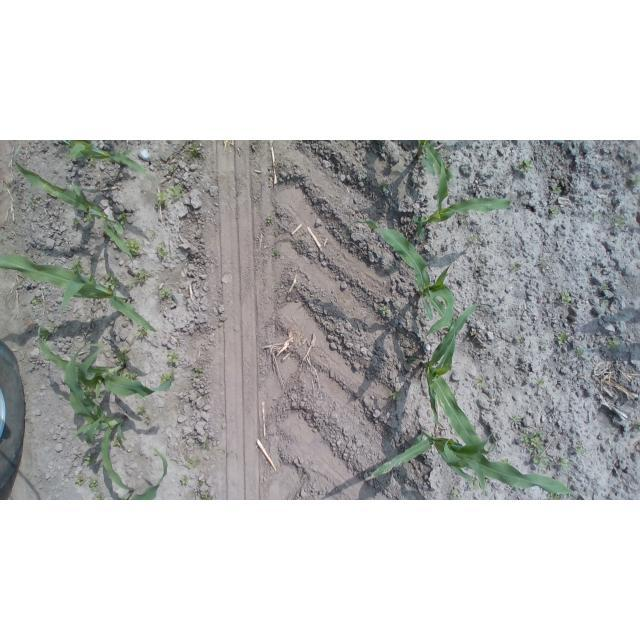Maize: (55, 348, 174, 497), (352, 421, 573, 500), (0, 245, 174, 339), (7, 160, 154, 265), (401, 304, 491, 463), (362, 211, 466, 334), (30, 327, 162, 408), (395, 148, 520, 231), (51, 140, 154, 184)
Weeds: (517, 429, 547, 467), (153, 185, 185, 211), (102, 272, 129, 293), (70, 256, 92, 276), (39, 324, 62, 343), (124, 240, 145, 260), (135, 405, 152, 428), (133, 269, 155, 286), (87, 477, 104, 499), (83, 449, 100, 470), (188, 143, 207, 161), (114, 349, 134, 366), (119, 369, 142, 383), (516, 158, 533, 175), (196, 483, 213, 500), (157, 242, 171, 262), (610, 214, 626, 231), (185, 455, 201, 472), (167, 350, 182, 368), (158, 373, 176, 387), (552, 457, 568, 471), (555, 331, 569, 347), (156, 287, 172, 301), (575, 444, 588, 461), (272, 283, 286, 298), (601, 284, 608, 312), (191, 366, 205, 380), (513, 335, 528, 348), (117, 214, 131, 227), (136, 327, 150, 340), (378, 305, 390, 320), (111, 435, 126, 447), (178, 474, 193, 486), (271, 246, 281, 263), (466, 478, 479, 491), (509, 415, 521, 429), (166, 164, 182, 174), (605, 338, 617, 351), (200, 438, 212, 451), (560, 291, 571, 305), (474, 378, 486, 390), (510, 261, 522, 272), (534, 377, 545, 389), (264, 214, 275, 226), (546, 207, 560, 216), (538, 260, 549, 271), (29, 194, 40, 205), (75, 475, 86, 486), (72, 219, 84, 229), (30, 297, 42, 307), (448, 489, 458, 500), (389, 388, 399, 399), (538, 342, 549, 352), (470, 235, 479, 245), (379, 181, 390, 189), (576, 347, 584, 358), (549, 186, 560, 194), (631, 178, 638, 186), (594, 210, 601, 218)
